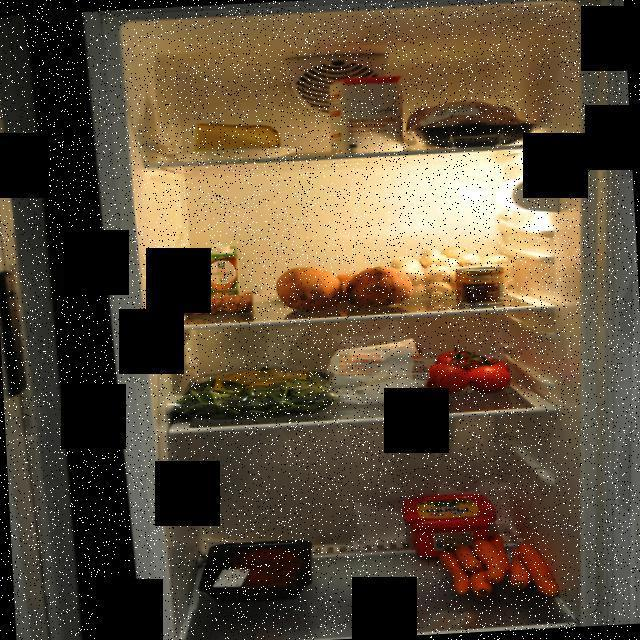beef: (196, 538, 316, 606)
butter: (402, 489, 501, 559)
carrot: (438, 532, 566, 608)
cheese: (185, 117, 288, 157)
chicken: (405, 95, 542, 155)
corn: (454, 266, 506, 308)
flour: (320, 340, 428, 412)
heavy_cream: (202, 242, 242, 308)
mushrooms: (388, 242, 517, 304)
shrimp: (171, 289, 259, 317)
spinach: (176, 361, 344, 423)
sugar: (328, 74, 407, 156)
sweet_potato: (274, 253, 418, 319)
tomato: (421, 342, 514, 398)
